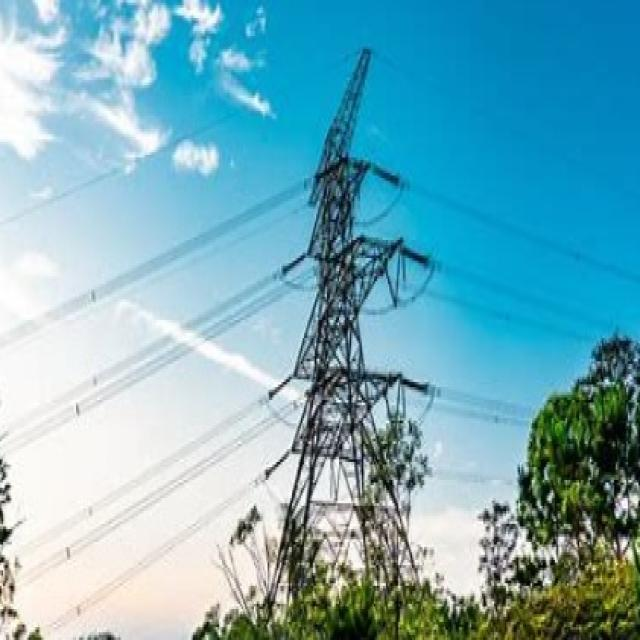utility poles: (505, 289, 629, 506), (322, 340, 443, 550)
